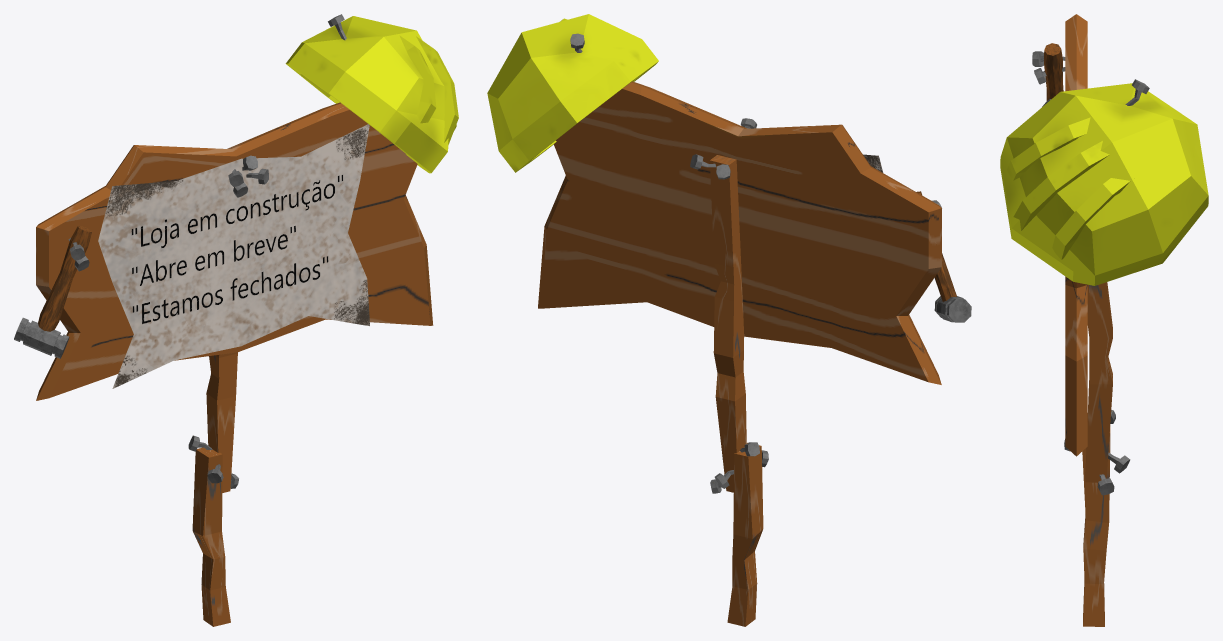
The model's file is Placa.fbx.
3 renders of one model, left to right at view 1: azimuth 30°, elevation 25°; view 2: azimuth 150°, elevation 25°; view 3: azimuth 270°, elevation 25°, orthographic. The views are drawn at different scales.
Parts seen in each view (by area): view 1: Placa; view 2: Placa; view 3: Placa.
Part boxes in pixels (x1,y1,x2,y2): Placa: [14, 14, 458, 626]; Placa: [487, 14, 971, 626]; Placa: [1000, 14, 1208, 626].
Bounding box in the file's own units: 85.13 × 102 × 31.11.
